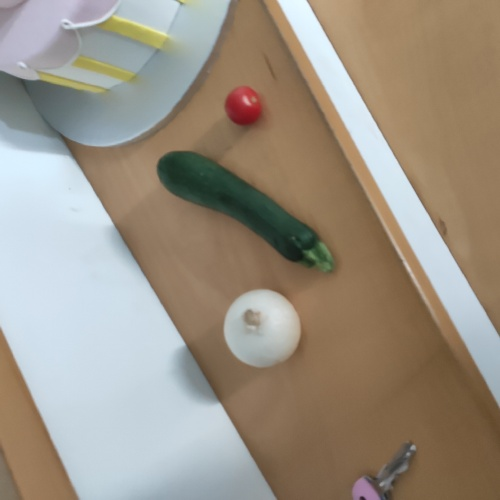cipolla: (223, 287, 305, 371)
pomodoro: (226, 88, 264, 130)
zucchine: (160, 154, 343, 269)
